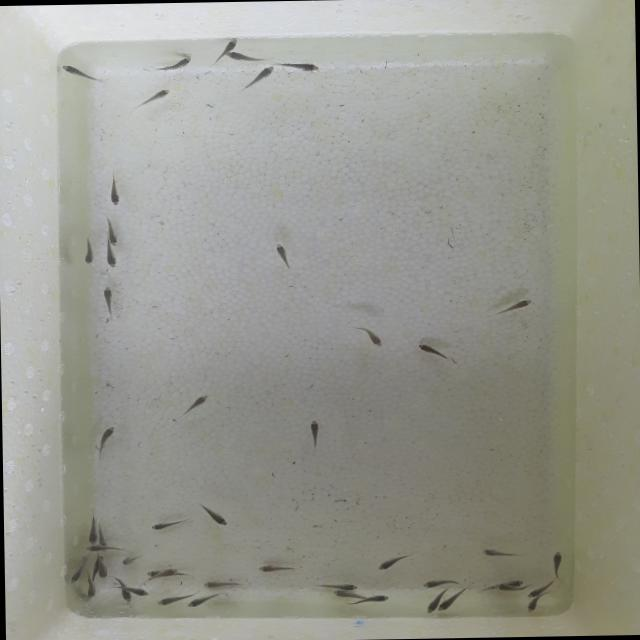fingerling: (116, 549, 158, 567), (60, 64, 96, 83), (360, 326, 387, 351), (247, 62, 280, 82), (140, 86, 170, 106), (197, 508, 226, 528), (414, 341, 444, 359), (440, 590, 465, 611), (184, 394, 212, 412), (164, 54, 194, 70), (376, 555, 404, 572), (419, 589, 438, 614), (147, 518, 186, 530), (476, 544, 507, 559), (119, 582, 152, 596), (498, 299, 533, 312), (148, 592, 176, 608), (107, 180, 123, 207), (356, 594, 390, 606), (183, 596, 211, 610), (86, 511, 98, 543), (200, 578, 237, 588), (318, 581, 358, 590), (419, 578, 455, 588), (78, 544, 114, 554), (96, 426, 115, 444), (68, 566, 86, 584), (104, 220, 118, 243), (519, 600, 542, 614), (274, 240, 288, 262), (259, 565, 296, 573), (520, 586, 544, 598), (82, 580, 96, 600), (329, 590, 363, 598), (289, 62, 319, 71), (81, 243, 92, 267), (493, 582, 509, 598), (552, 550, 564, 571), (160, 568, 182, 579), (101, 288, 116, 304), (103, 249, 116, 267), (221, 37, 237, 51), (310, 416, 320, 438), (97, 558, 107, 580), (224, 51, 248, 60), (115, 592, 135, 602), (98, 522, 106, 543)
